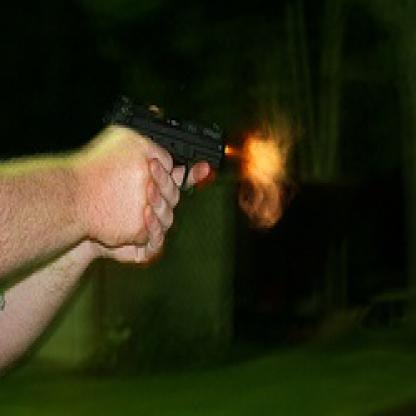gun: (104, 92, 231, 196)
